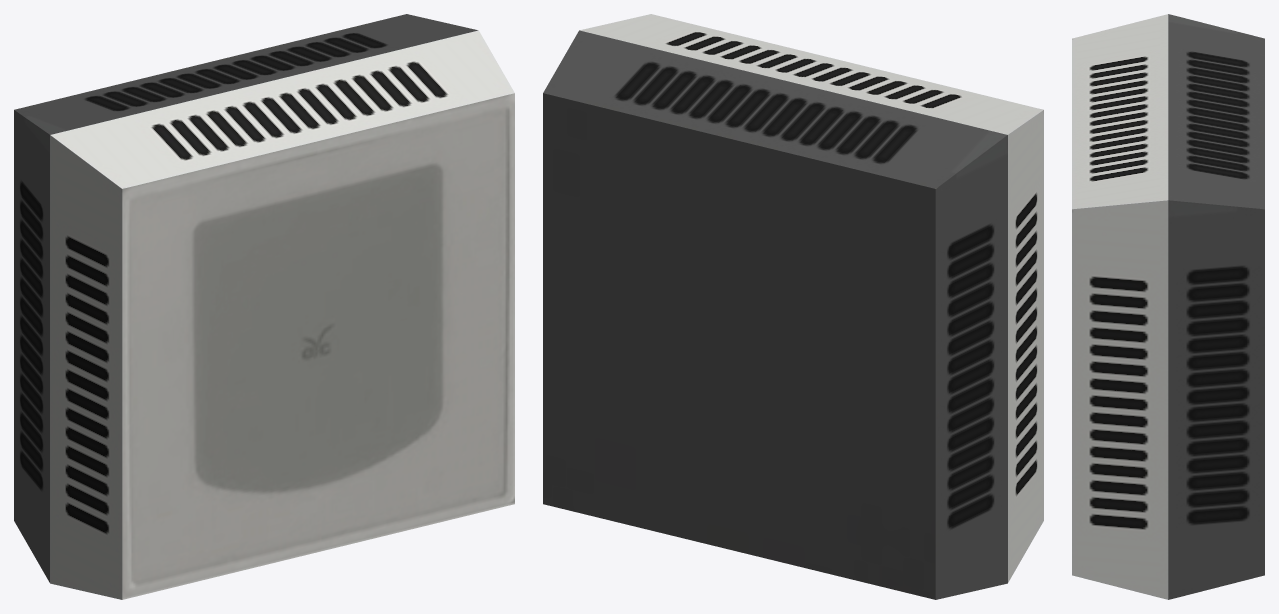
File: airSensor.gltf
The picture shows the model from 3 angles, left to right: view 1: azimuth 30°, elevation 25°; view 2: azimuth 150°, elevation 25°; view 3: azimuth 270°, elevation 25°; orthographic projection. The views are drawn at different scales.
Parts seen in each view (by area): view 1: airSensor; view 2: airSensor; view 3: airSensor.
Boxes of the visible parts, box(x1,y1,x2,y2) form: airSensor: box(14, 14, 514, 599); airSensor: box(543, 14, 1043, 599); airSensor: box(1072, 14, 1264, 599).
Bounding box in the file's own units: 0.8732 × 0.8732 × 0.3816.
Materials: 1 (1 with a texture image).
